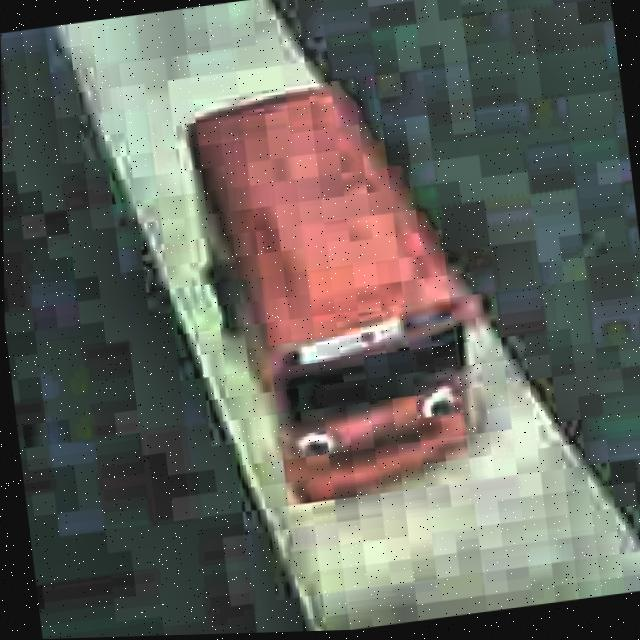bus: (176, 62, 501, 518)
